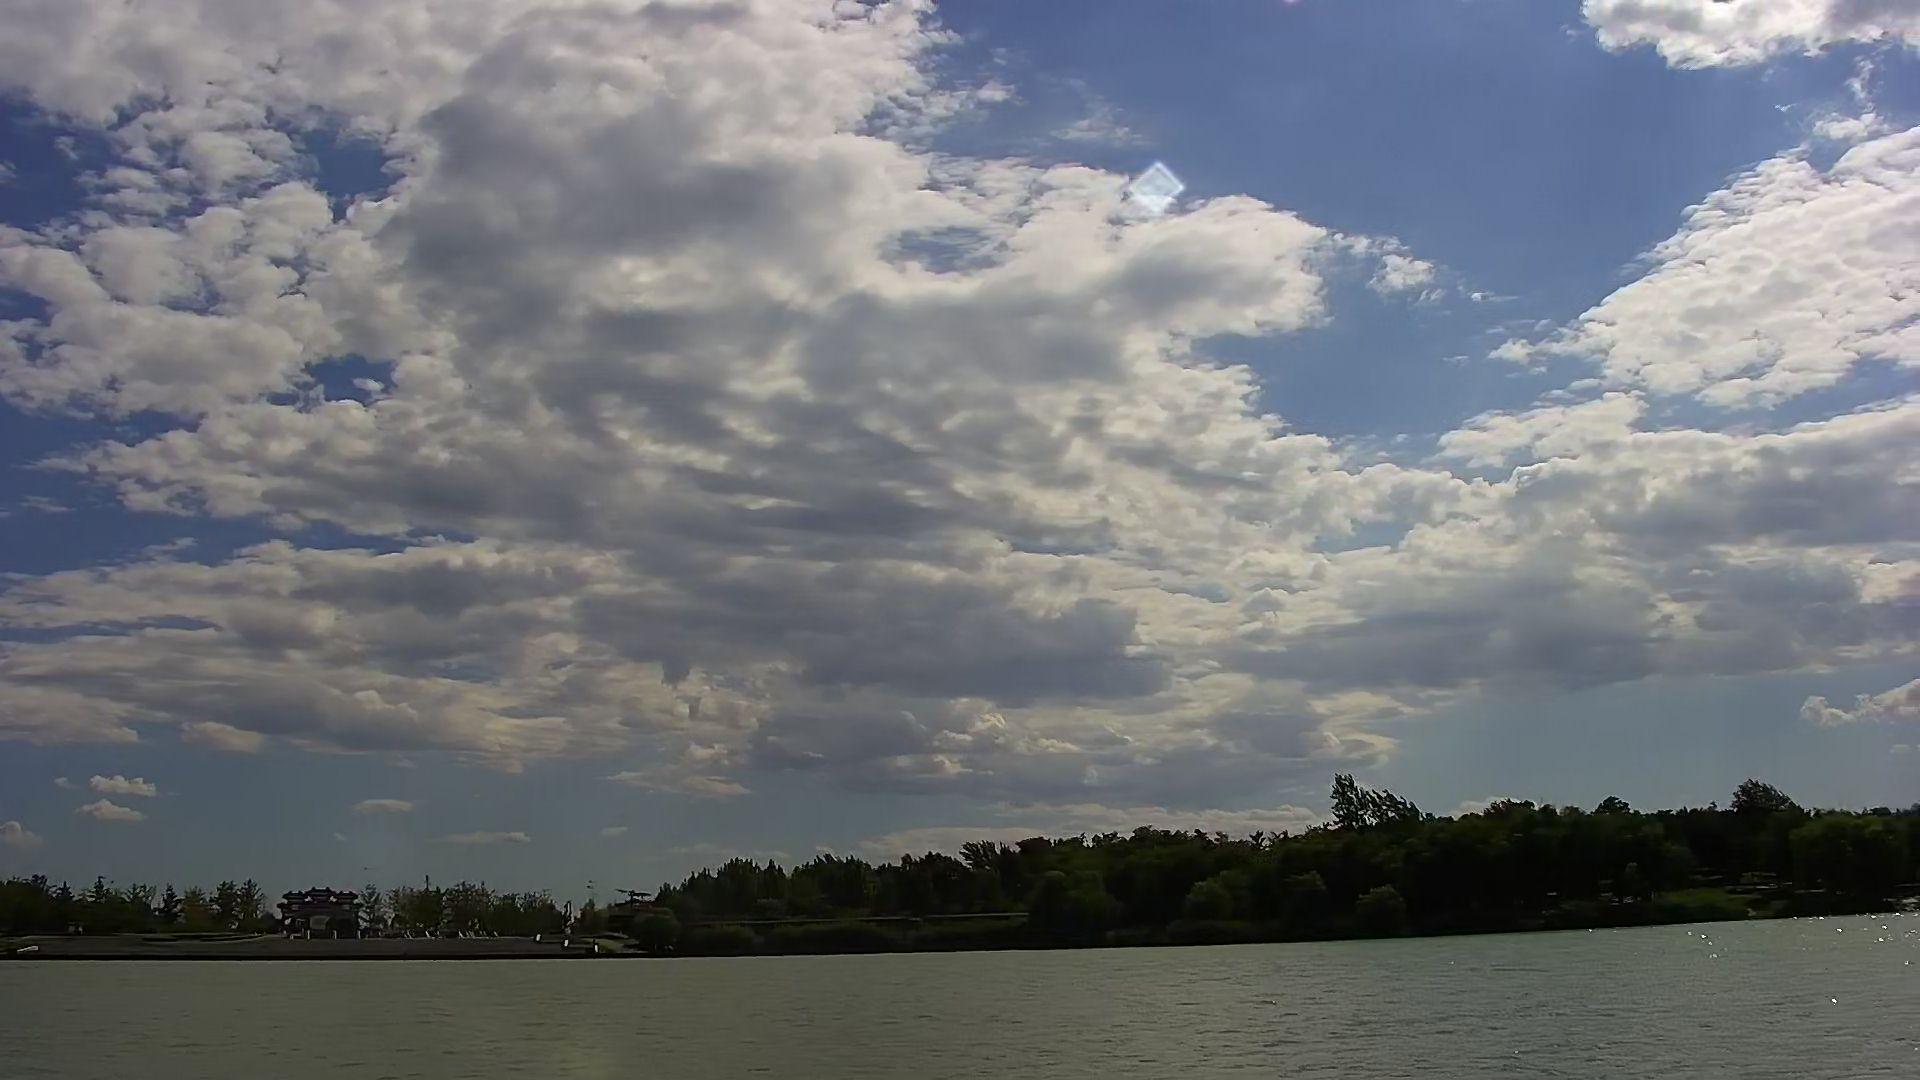harbor: (55, 924, 659, 959)
